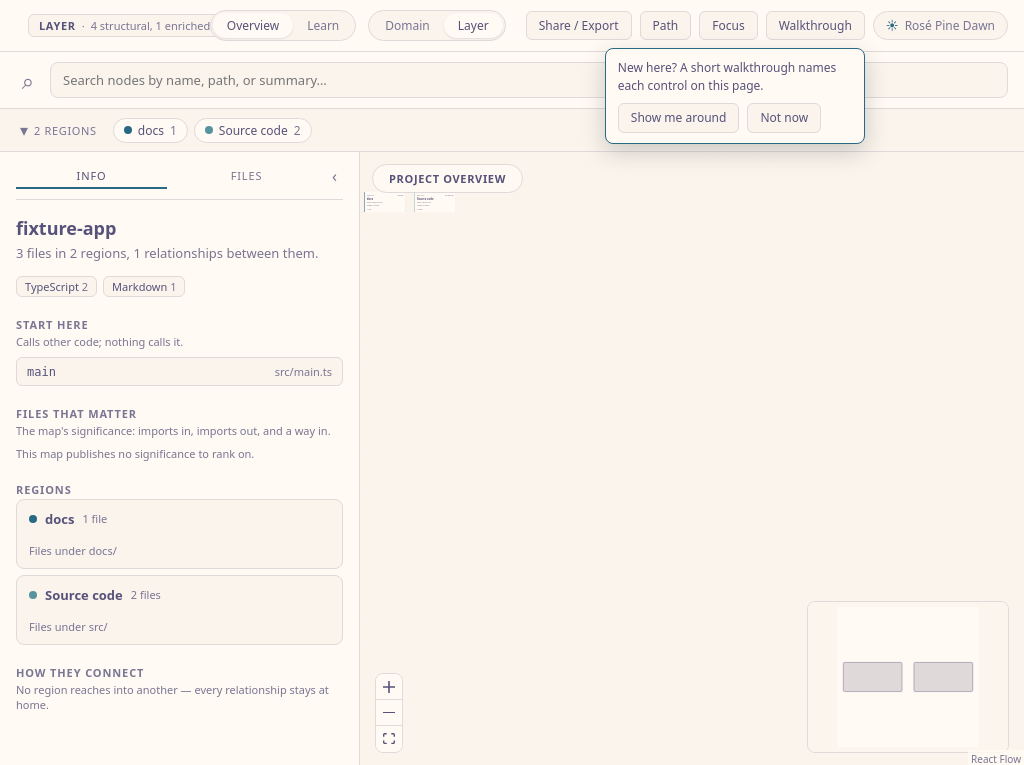
Test case: node detail › badges structural provenance and lists outgoing edges
Type "main.ts" into the search field labelled "Search nodes" at (529, 80), box [50,62,1008,98]
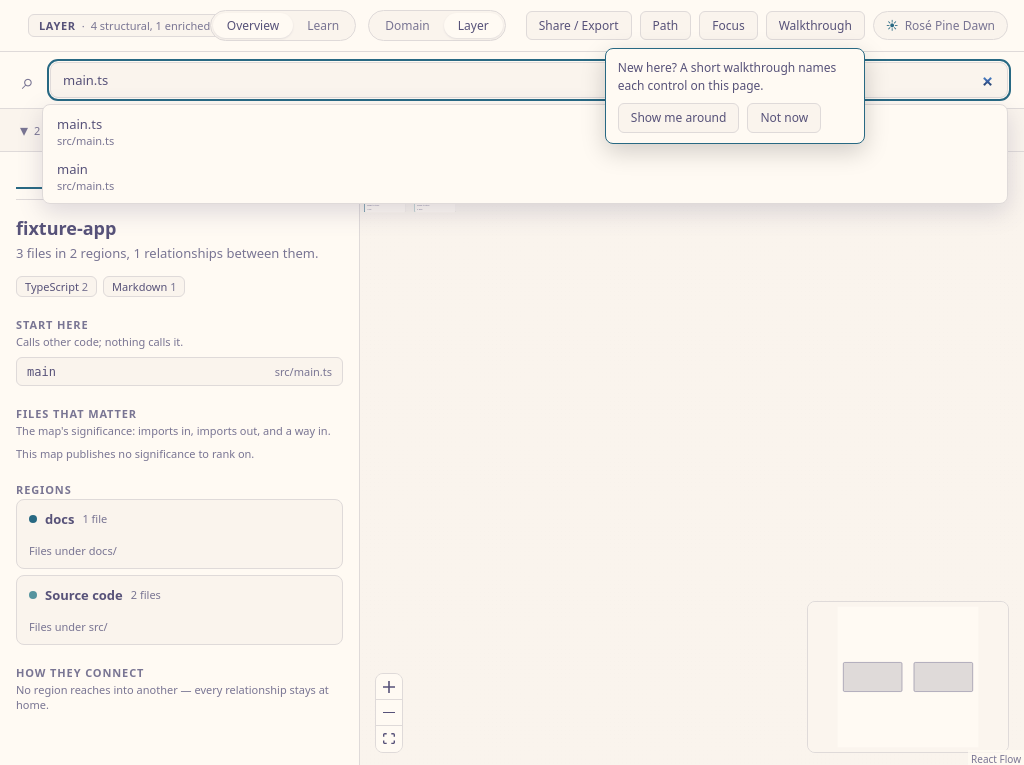
Click the text "main.ts" at (80, 124), box [57,115,102,133]
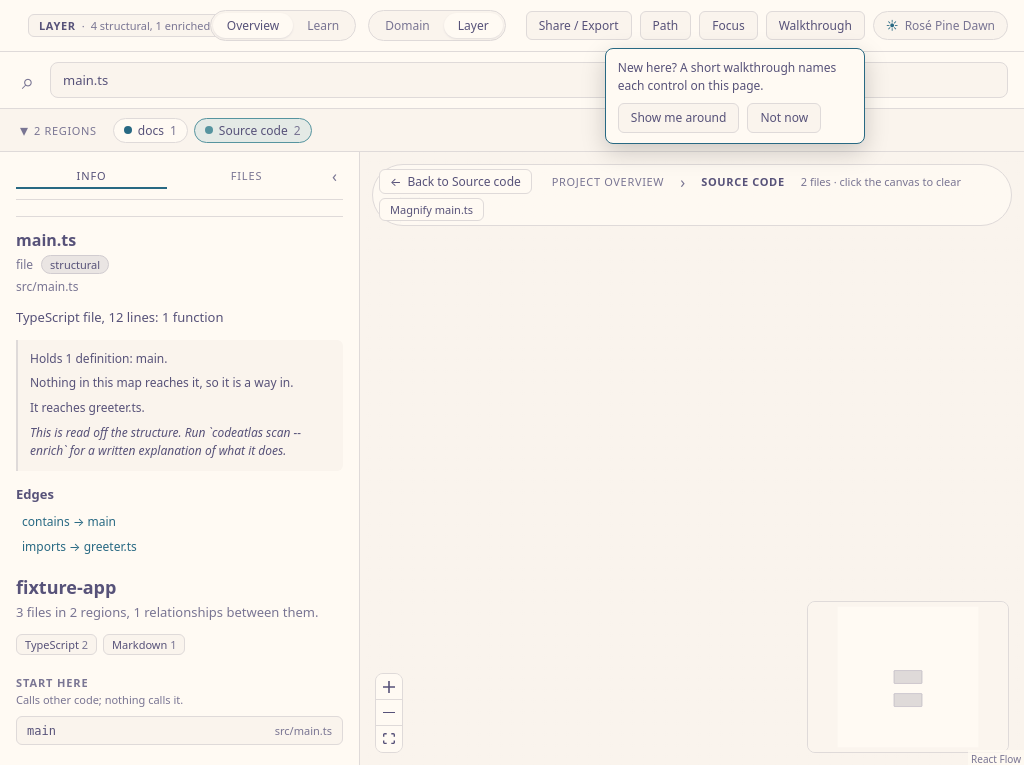
Result: the text with test id "provenance-badge" reads "structural" at [50,257,100,272]
Result: the button "contains → main" is shown at [16,509,343,534]
Result: the button "imports → greeter.ts" is shown at [16,534,343,559]
